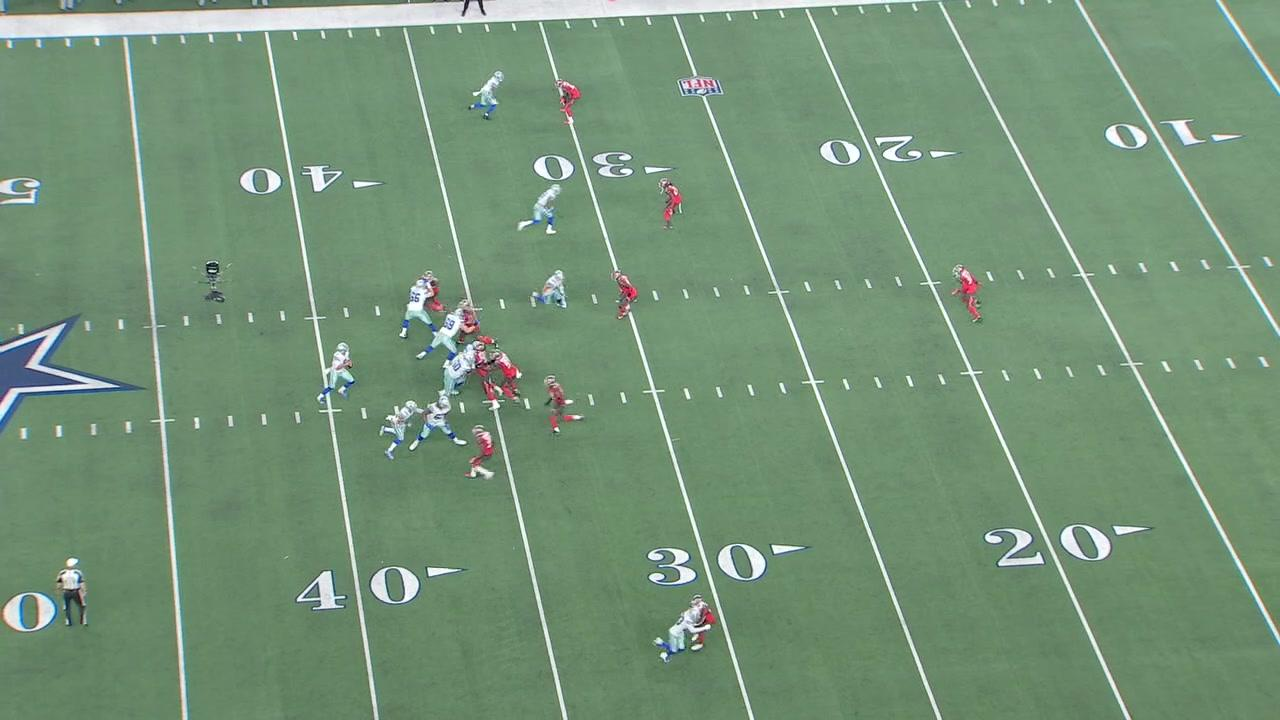player: (649, 606, 711, 666), (408, 395, 468, 453), (414, 308, 480, 360), (541, 372, 587, 440), (377, 399, 425, 463), (514, 179, 565, 239), (315, 339, 359, 406), (949, 264, 992, 330), (454, 298, 501, 348), (465, 71, 509, 123), (474, 339, 504, 413), (398, 280, 434, 340), (465, 426, 502, 483), (529, 267, 575, 312), (491, 348, 524, 406), (435, 351, 478, 395), (687, 592, 717, 654), (656, 175, 688, 233), (605, 268, 640, 321), (553, 76, 585, 127), (423, 273, 446, 311), (463, 338, 483, 359)
ref: (48, 555, 97, 633)
